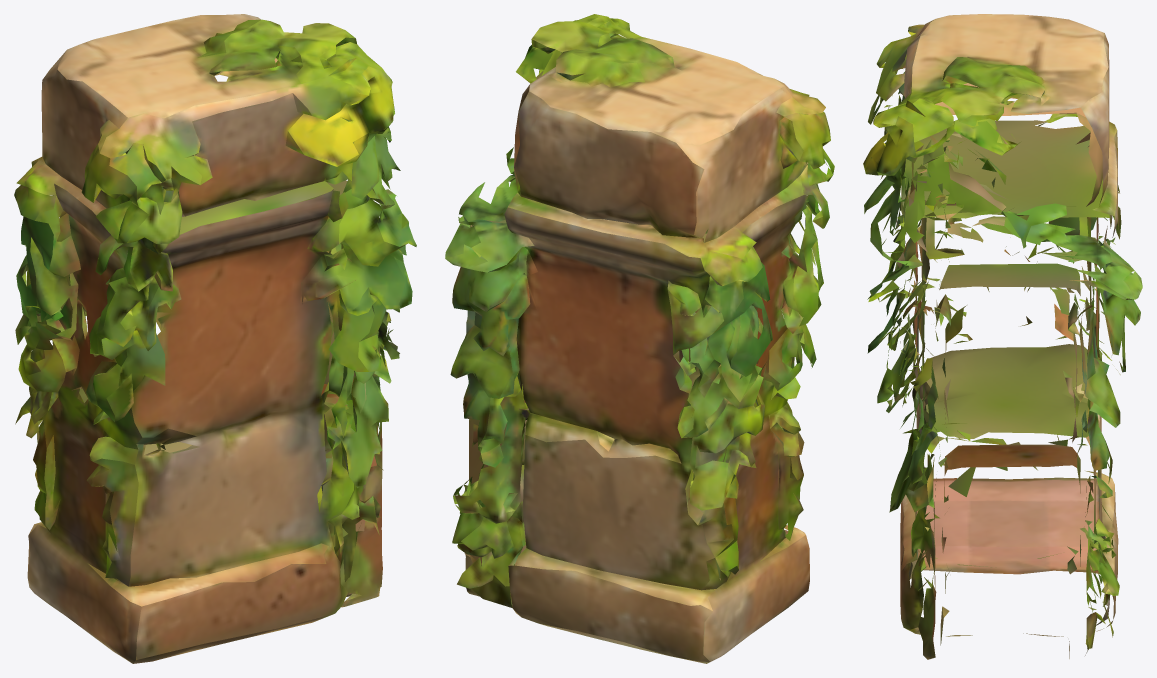
Rendered from A1-pier.glb.
The picture shows the model from 3 angles, left to right: view 1: azimuth 30°, elevation 25°; view 2: azimuth 150°, elevation 25°; view 3: azimuth 270°, elevation 25°; orthographic projection. The views are drawn at different scales.
Visible parts, largest first — view 1: geometry_0; view 2: geometry_0; view 3: geometry_0.
Boxes of the visible parts, <box> form: geometry_0: <box>14,14,416,663</box>; geometry_0: <box>445,14,834,663</box>; geometry_0: <box>863,14,1142,659</box>.
Size of the model in its own units: 0.69 by 1.25 by 0.5808.
1 material, 1 textured.
